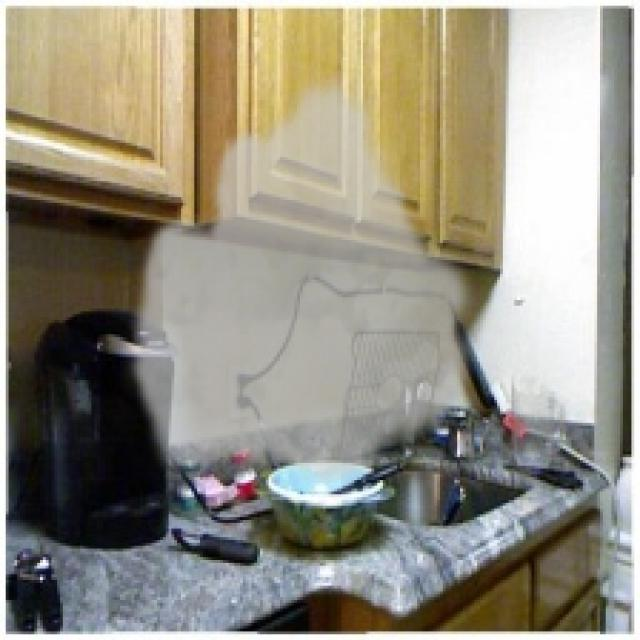smoke: (126, 69, 483, 488)
